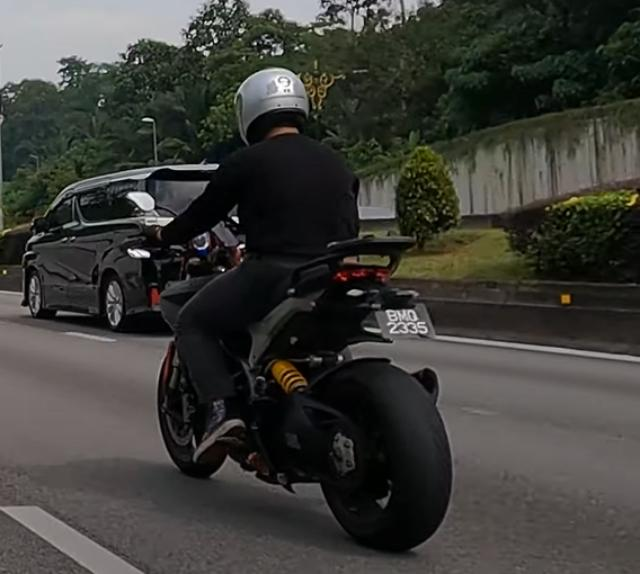License_Plate: (377, 300, 438, 341)
motorcycle: (121, 186, 454, 554)
